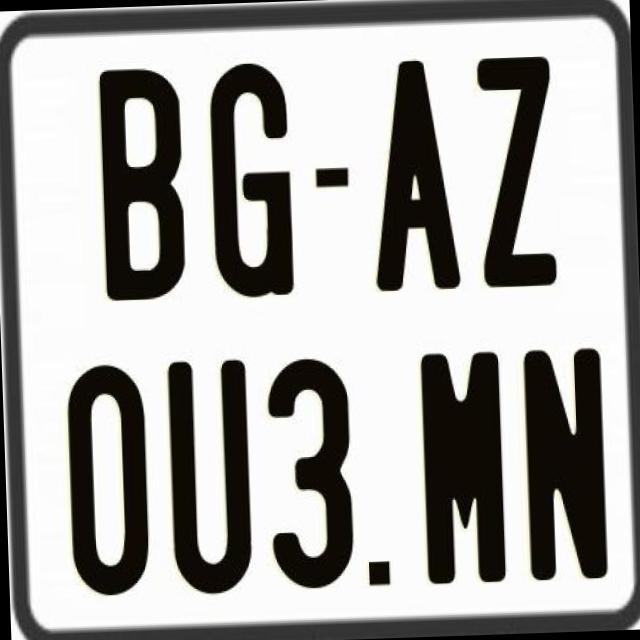0: (63, 362, 151, 602)
3: (263, 356, 359, 596)
A: (368, 58, 466, 298)
B: (97, 67, 189, 307)
G: (207, 61, 294, 306)
M: (420, 349, 511, 590)
N: (518, 342, 610, 580)
U: (166, 359, 256, 601)
Z: (472, 56, 552, 290)
